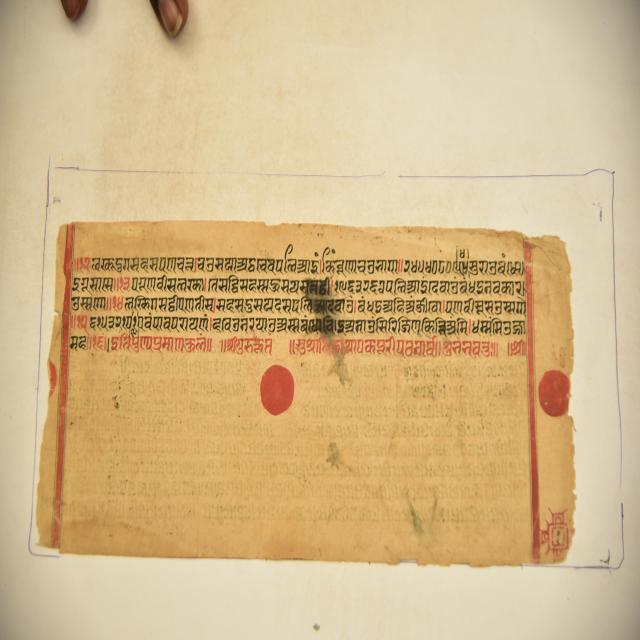text_paragraph: (35, 223, 572, 565)
